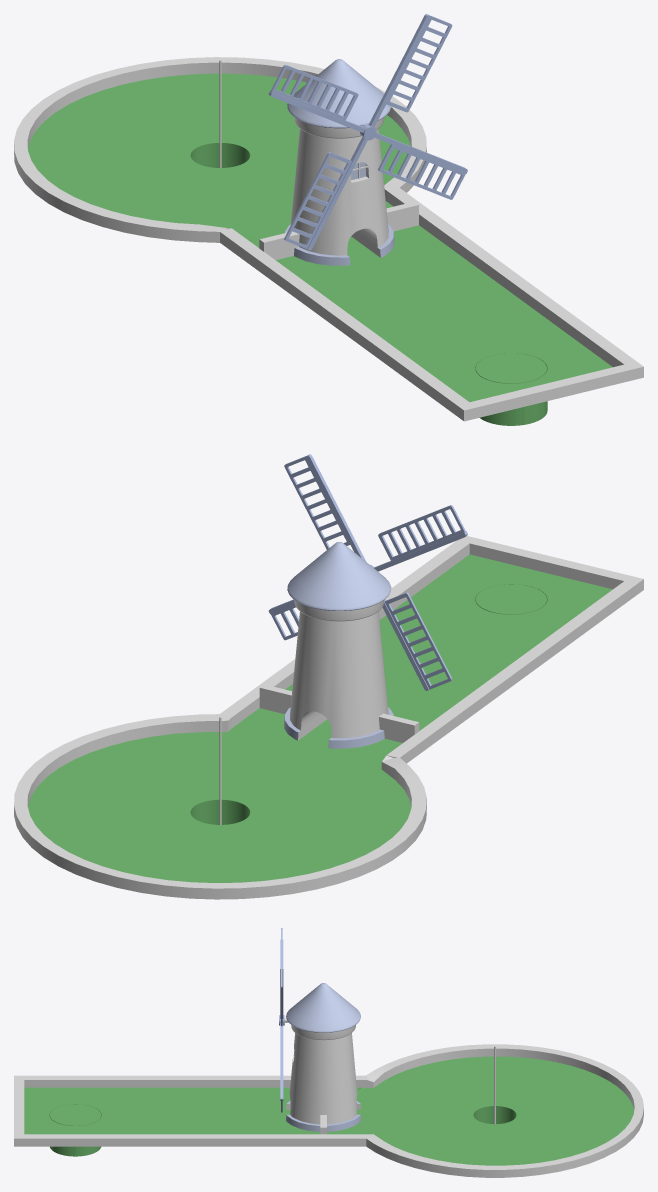
Rendered from Windmill01.glb.
The picture shows the model from 3 angles, top to bottom: view 1: azimuth 30°, elevation 25°; view 2: azimuth 150°, elevation 25°; view 3: azimuth 270°, elevation 25°; orthographic projection. The views are drawn at different scales.
Visible parts, largest first — view 1: Goal, Ground, Cube, Windmill, Fan, Flip; view 2: Goal, Ground, Windmill, Cube, Fan, Flip; view 3: Goal, Ground, Cube, Windmill, Flip, Fan.
Part boxes in pixels (x1,y1,x2,y2): Goal: (14, 57, 426, 242); Ground: (251, 204, 612, 425); Cube: (219, 187, 643, 421); Windmill: (285, 59, 394, 265); Fan: (268, 14, 467, 250); Flip: (475, 353, 546, 383); Goal: (14, 714, 426, 899); Ground: (236, 554, 612, 758); Windmill: (284, 542, 393, 748); Cube: (219, 536, 643, 763); Fan: (268, 454, 467, 690); Flip: (475, 584, 546, 614); Goal: (349, 1044, 643, 1177); Ground: (24, 1087, 360, 1156); Cube: (14, 1075, 366, 1146); Windmill: (286, 983, 361, 1131); Flip: (49, 1104, 101, 1125); Fan: (279, 928, 284, 1112).
Size of the model in its own units: 3.42 by 2.53 by 7.24.
